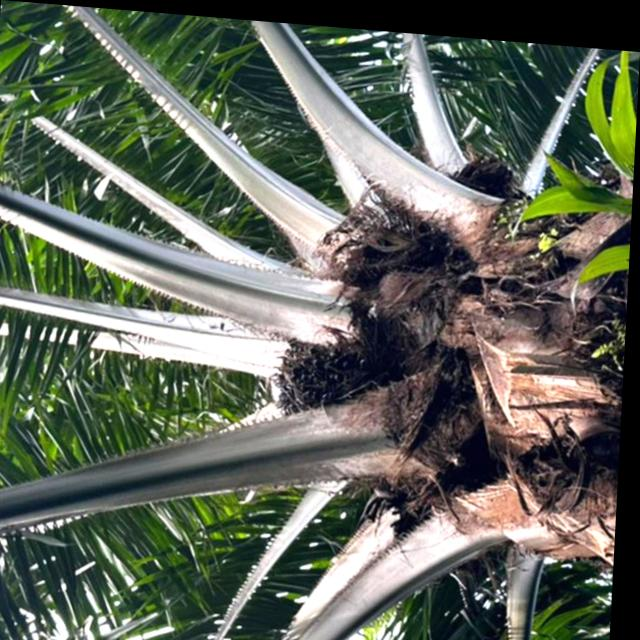unripe: (265, 316, 401, 420)
